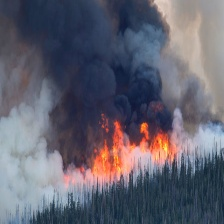fire: (64, 119, 175, 184)
smoke: (2, 1, 223, 194)
